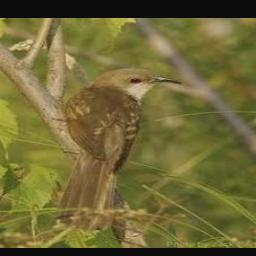Cuckoo: (52, 67, 181, 232)
